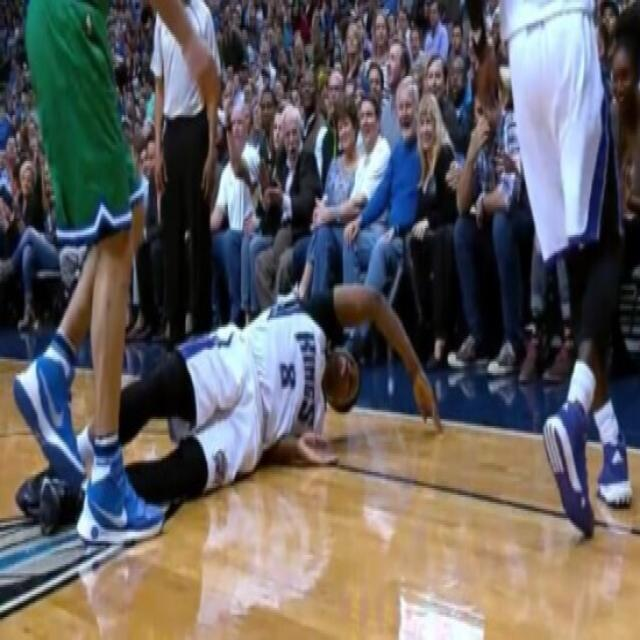10-: (0, 0, 638, 557)
down: (12, 242, 450, 530)
